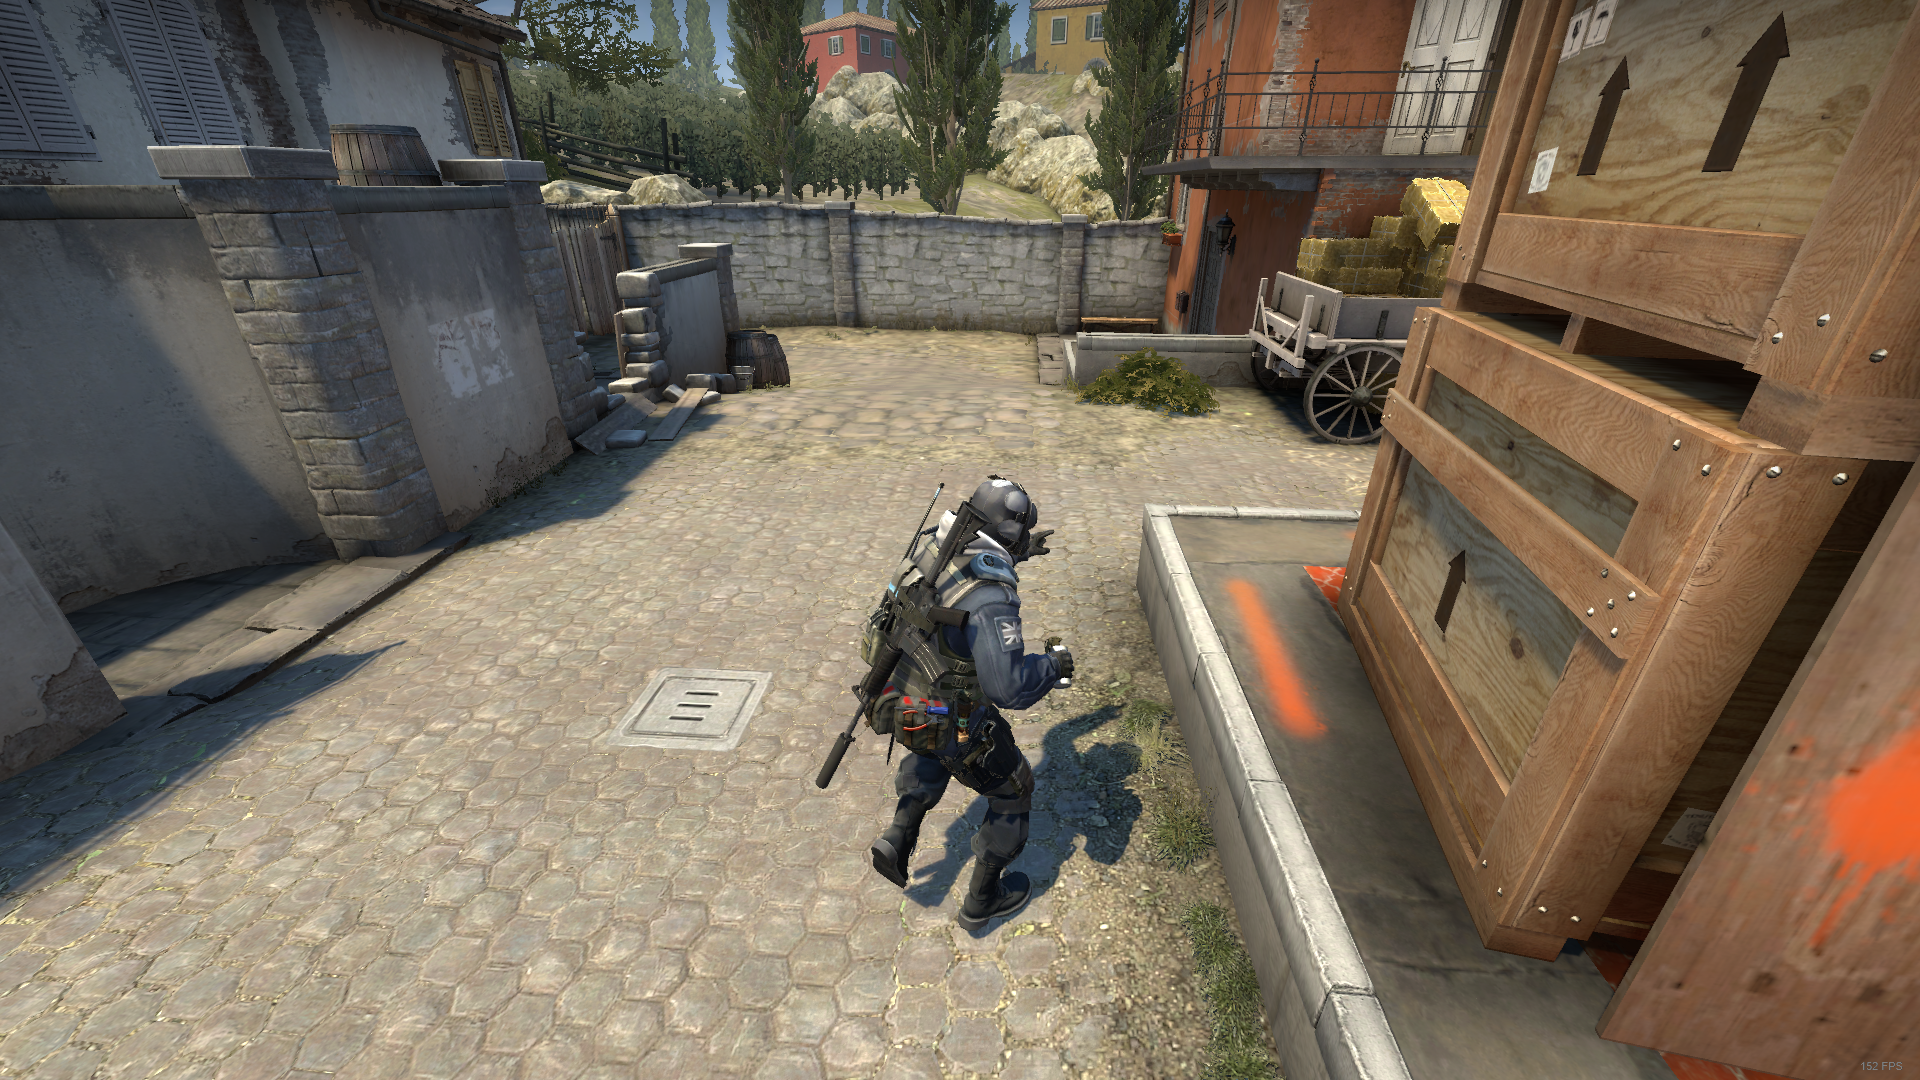ct: (858, 477, 1075, 931)
